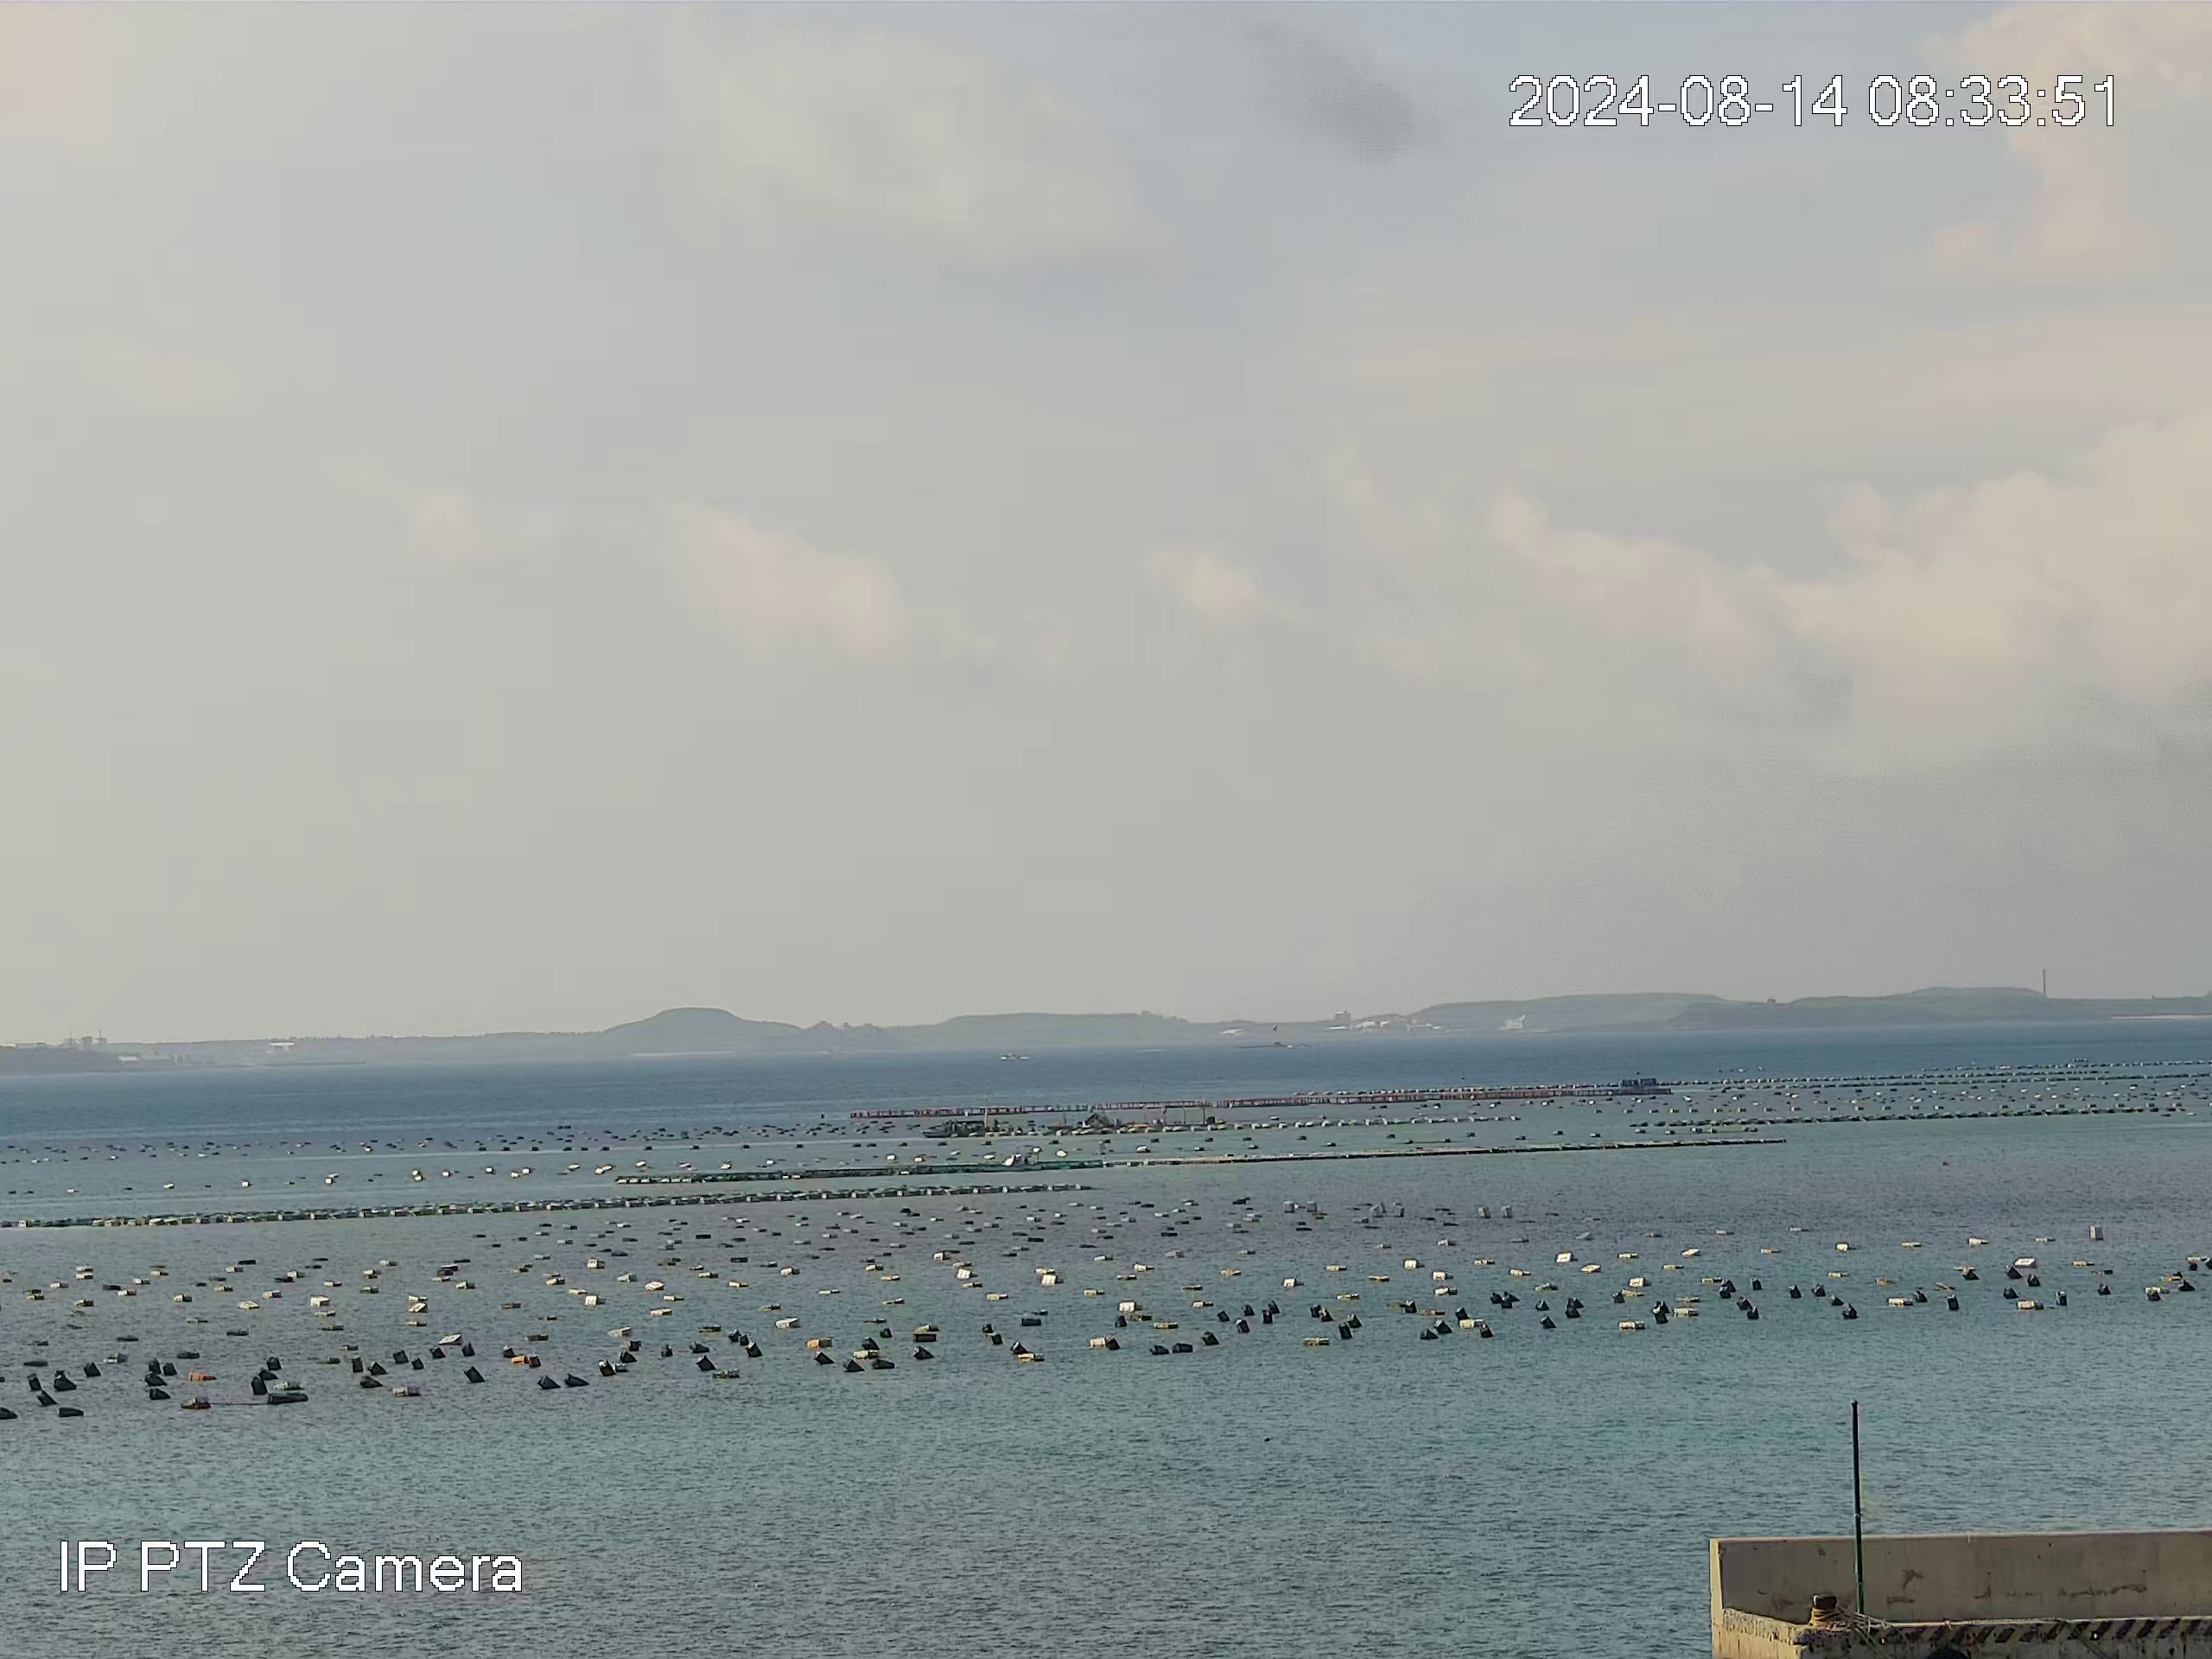boat: (918, 1115, 988, 1134)
